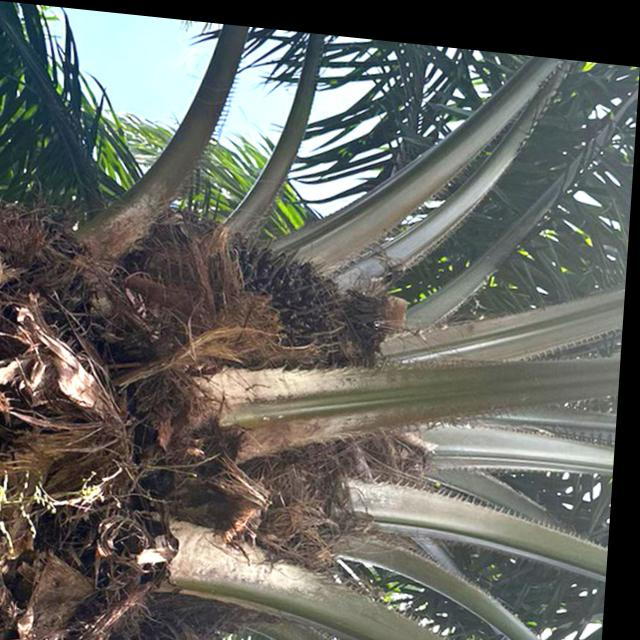almost: (208, 224, 362, 374)
